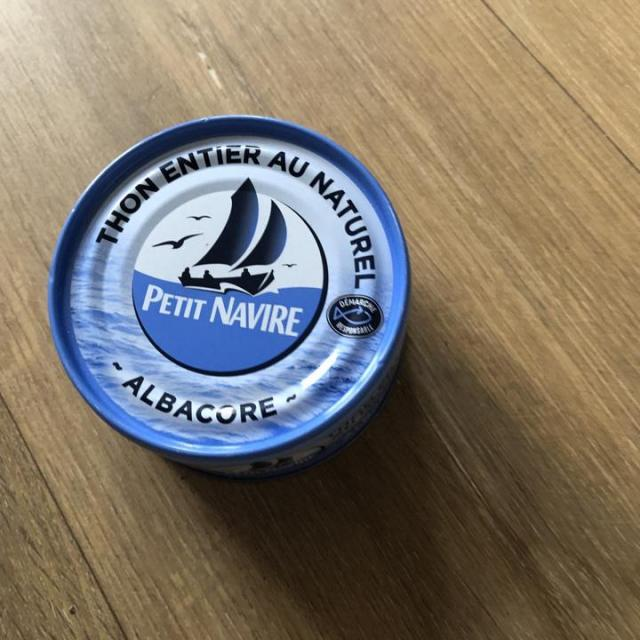recyclable: (43, 103, 433, 500)
